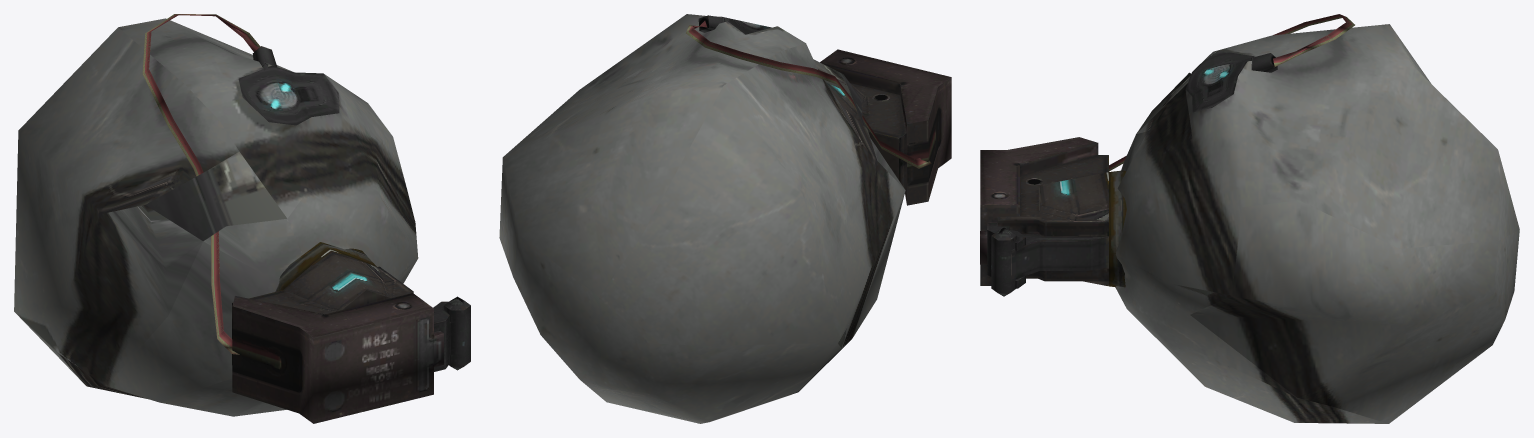
Rendered from t6_wpn_grenade_semtex_projectile_LOD0.obj.
3 renders of one model, left to right at view 1: azimuth 30°, elevation 25°; view 2: azimuth 150°, elevation 25°; view 3: azimuth 270°, elevation 25°, orthographic. The views are drawn at different scales.
Visible parts, largest first — view 1: mtl_t6_wpn_grenade_semtex; view 2: mtl_t6_wpn_grenade_semtex; view 3: mtl_t6_wpn_grenade_semtex.
Boxes of the visible parts, bbox=[...] form: mtl_t6_wpn_grenade_semtex: bbox=[14, 14, 470, 423]; mtl_t6_wpn_grenade_semtex: bbox=[499, 14, 951, 423]; mtl_t6_wpn_grenade_semtex: bbox=[980, 14, 1519, 423].
Size of the model in its own units: 7.92 by 8.49 by 11.19.
